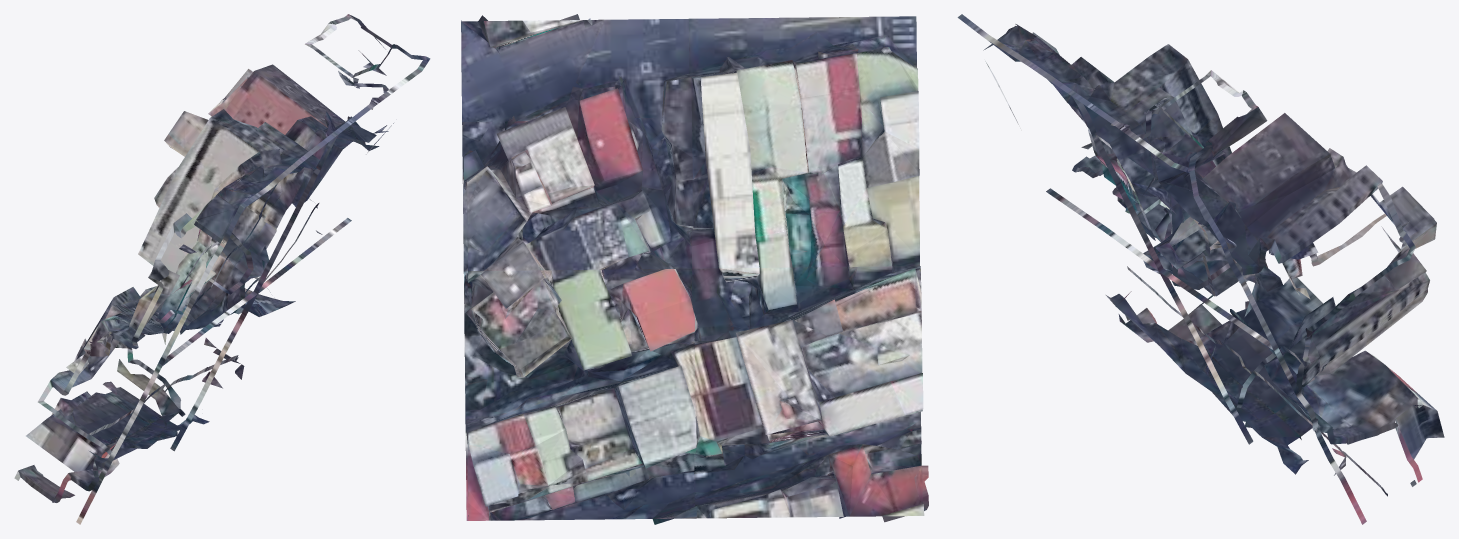
3 renders of one model, left to right at view 1: azimuth 30°, elevation 25°; view 2: azimuth 150°, elevation 25°; view 3: azimuth 270°, elevation 25°, orthographic. The views are drawn at different scales.
Size of the model in its own units: 83.08 by 76.26 by 76.93.
Materials: 2 (2 with a texture image).
